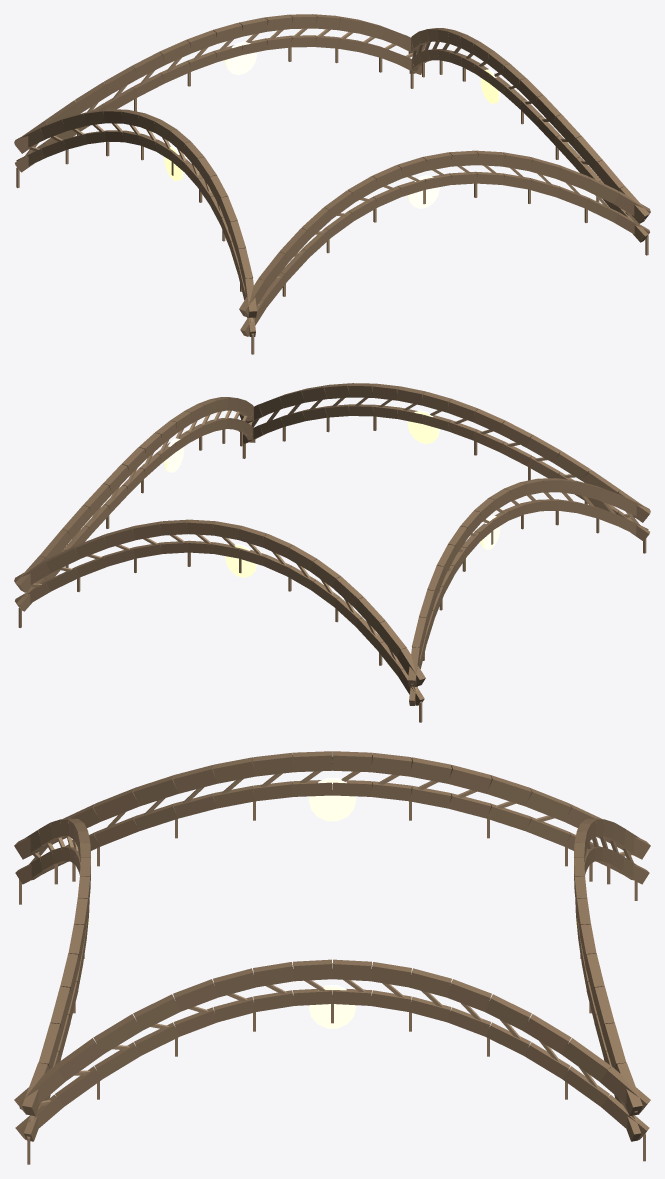
Rendered from 03_arches.glb.
3 renders of one model, top to bottom at view 1: azimuth 30°, elevation 25°; view 2: azimuth 150°, elevation 25°; view 3: azimuth 270°, elevation 25°, orthographic. The views are drawn at different scales.
Visible parts, largest first — view 1: arches_iron, arches_ironlight, arches_lamp_nocol; view 2: arches_iron, arches_ironlight, arches_lamp_nocol; view 3: arches_iron, arches_ironlight, arches_lamp_nocol.
Part boxes in pixels (x1,y1,x2,y2): arches_iron: (14,14,650,336); arches_ironlight: (16,28,648,354); arches_lamp_nocol: (164,41,500,208); arches_iron: (14,383,650,705); arches_ironlight: (18,398,646,722); arches_lamp_nocol: (164,410,500,577); arches_iron: (14,751,650,1141); arches_ironlight: (19,761,646,1164); arches_lamp_nocol: (88,778,576,1028).
Bounding box in the file's own units: 91.24 × 27.6 × 91.24.
